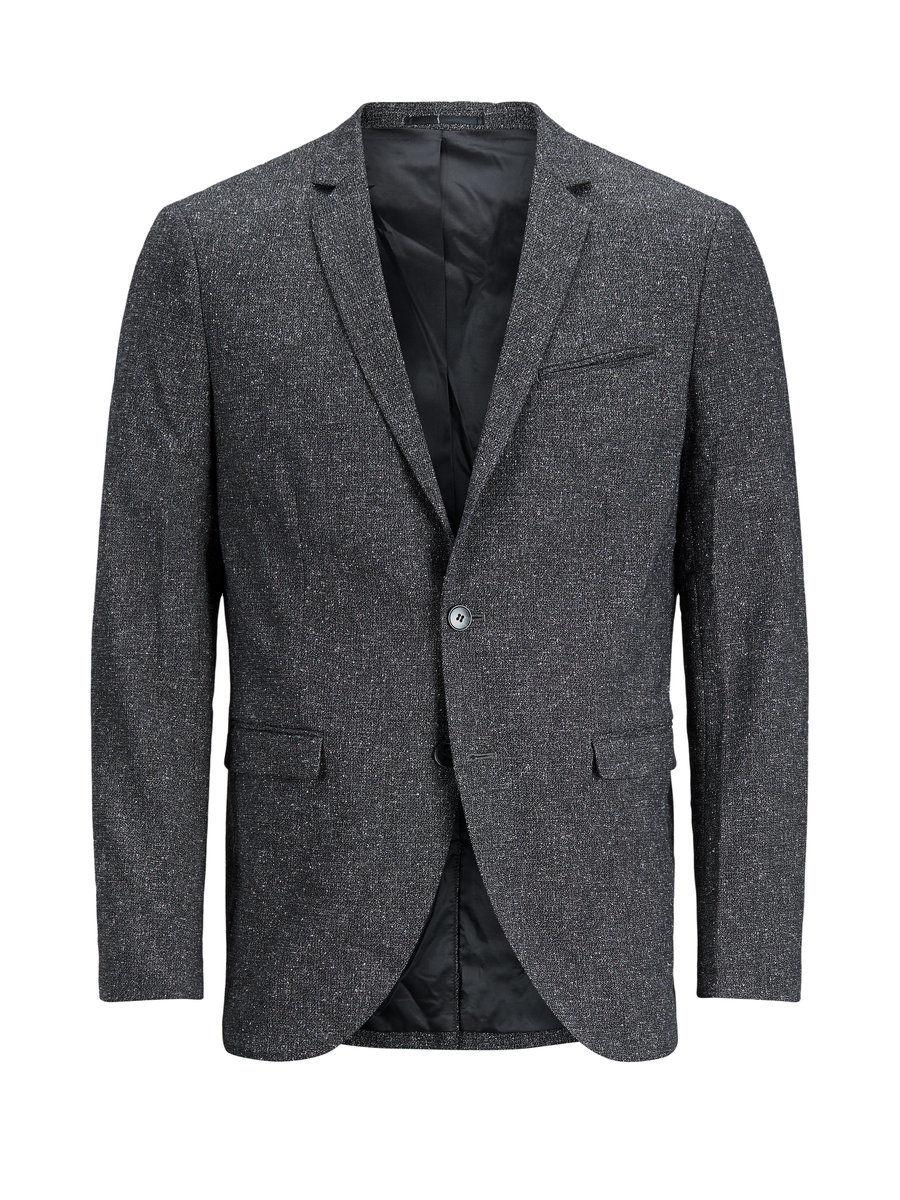teeshirt: (58, 83, 840, 1096)
